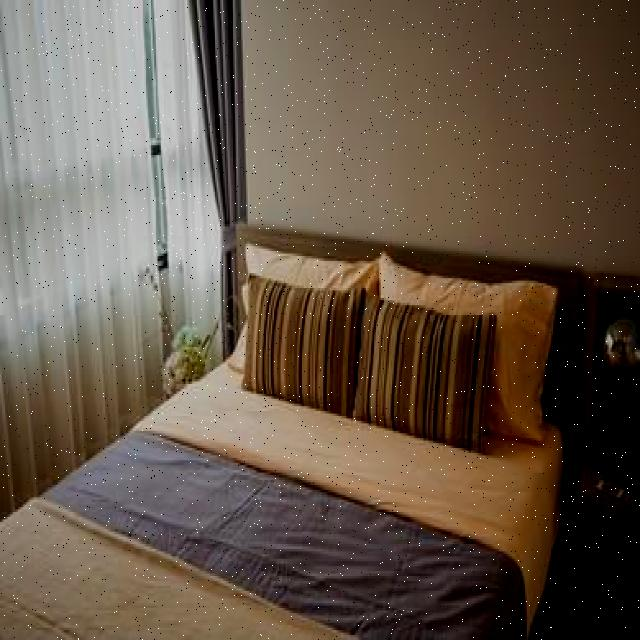bed: (2, 245, 584, 640)
